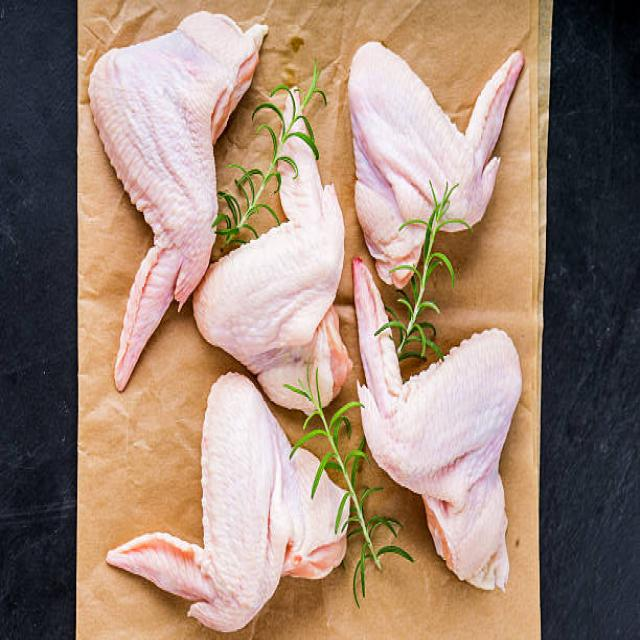Chicken: (86, 11, 252, 389), (112, 392, 348, 640), (358, 300, 522, 594), (348, 34, 530, 280), (202, 110, 348, 376)
